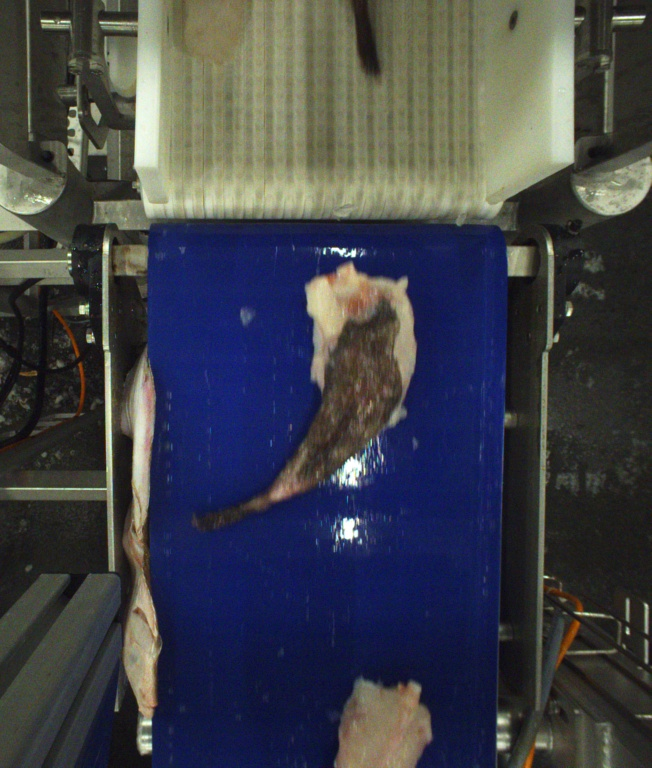ANF: (333, 676, 434, 768)
